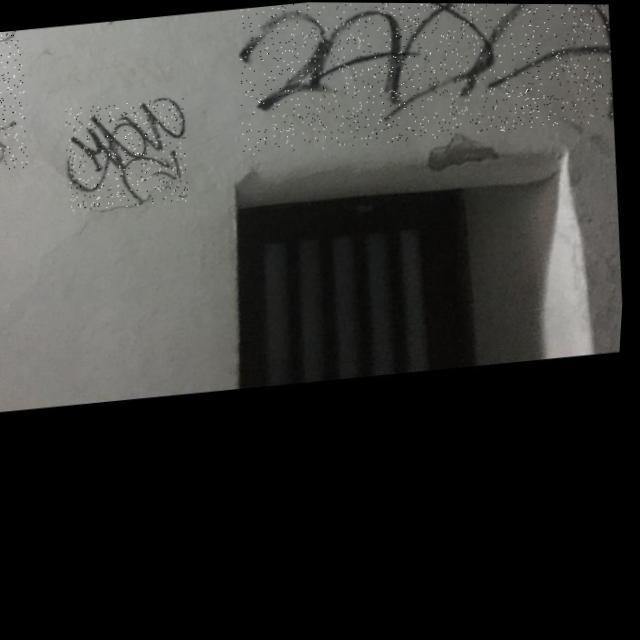-: (230, 2, 620, 158), (61, 96, 195, 213), (0, 29, 36, 172)
